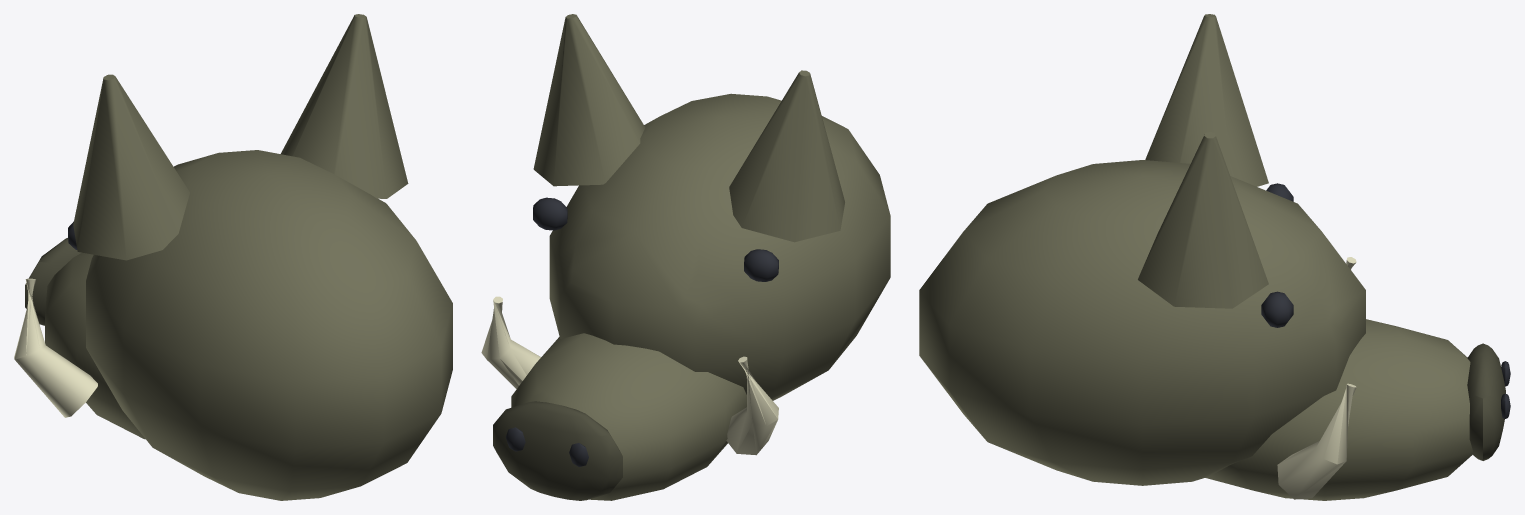
The model's file is chimera_b_head.obj.
The picture shows the model from 3 angles, left to right: view 1: azimuth 30°, elevation 25°; view 2: azimuth 150°, elevation 25°; view 3: azimuth 270°, elevation 25°; orthographic projection. The views are drawn at different scales.
Parts seen in each view (by area): view 1: source_component_000, source_component_005, source_component_009, source_component_001, source_component_006, source_component_002; view 2: source_component_000, source_component_001, source_component_005, source_component_009, source_component_002, source_component_006, source_component_010, source_component_008, source_component_004; view 3: source_component_000, source_component_001, source_component_009, source_component_005, source_component_010, source_component_002, source_component_008.
Part boxes in pixels (<box>): source_component_000: <box>86,150,452,500</box>; source_component_005: <box>73,74,189,260</box>; source_component_009: <box>281,14,408,198</box>; source_component_001: <box>45,252,145,439</box>; source_component_006: <box>14,278,97,417</box>; source_component_002: <box>25,238,81,325</box>; source_component_000: <box>549,93,890,400</box>; source_component_001: <box>511,333,746,500</box>; source_component_005: <box>729,70,844,242</box>; source_component_009: <box>533,14,645,186</box>; source_component_002: <box>493,401,622,500</box>; source_component_006: <box>726,356,778,455</box>; source_component_010: <box>481,296,540,388</box>; source_component_008: <box>533,197,567,230</box>; source_component_004: <box>744,249,778,281</box>; source_component_000: <box>919,160,1365,485</box>; source_component_001: <box>1205,319,1473,500</box>; source_component_009: <box>1138,132,1268,308</box>; source_component_005: <box>1145,14,1268,186</box>; source_component_010: <box>1277,383,1356,499</box>; source_component_002: <box>1467,343,1505,460</box>; source_component_008: <box>1261,291,1293,327</box>.
Bounding box in the file's own units: 0.5319 × 0.6765 × 0.8775.
